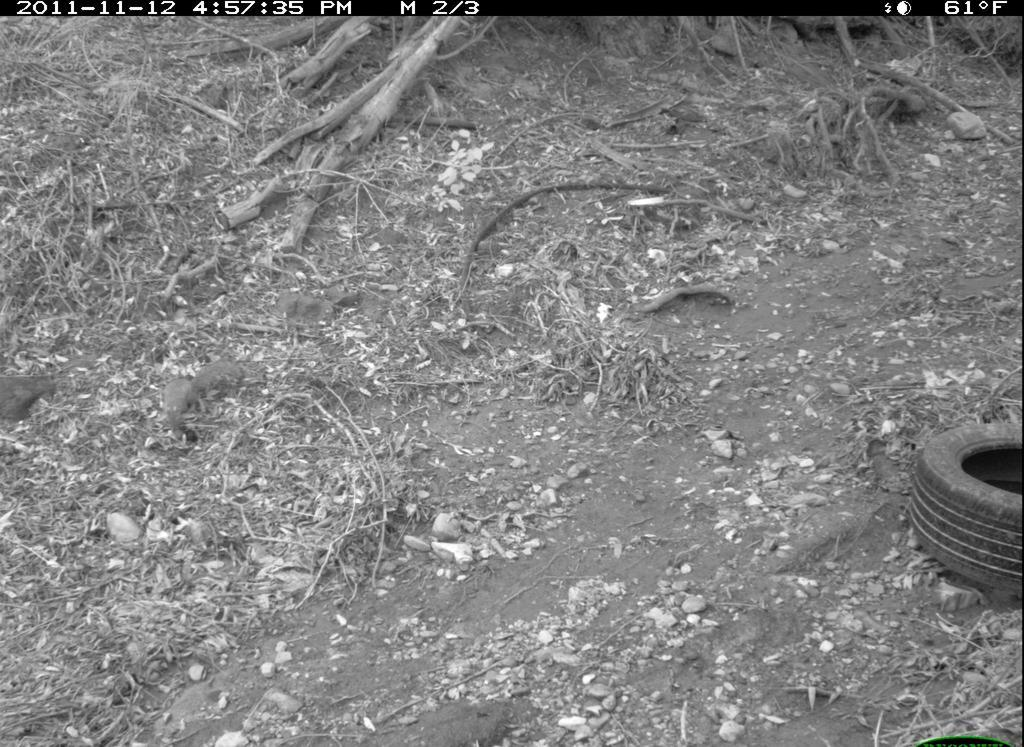squirrel: (158, 356, 249, 441)
